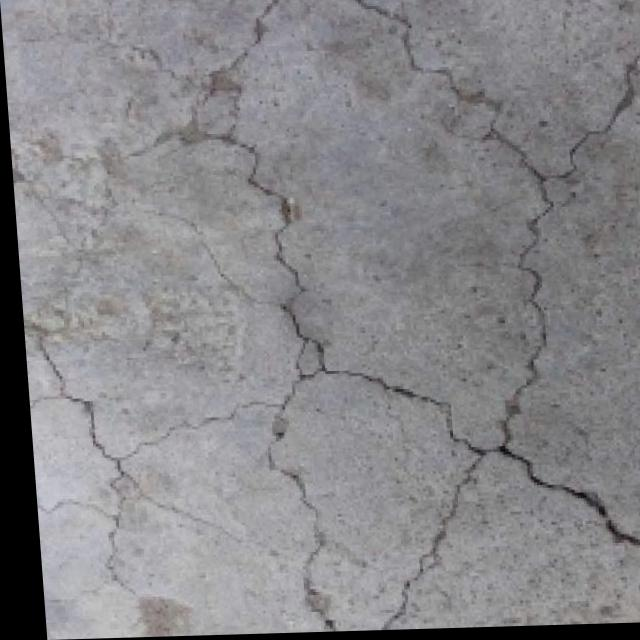Crack: (198, 0, 640, 635)
